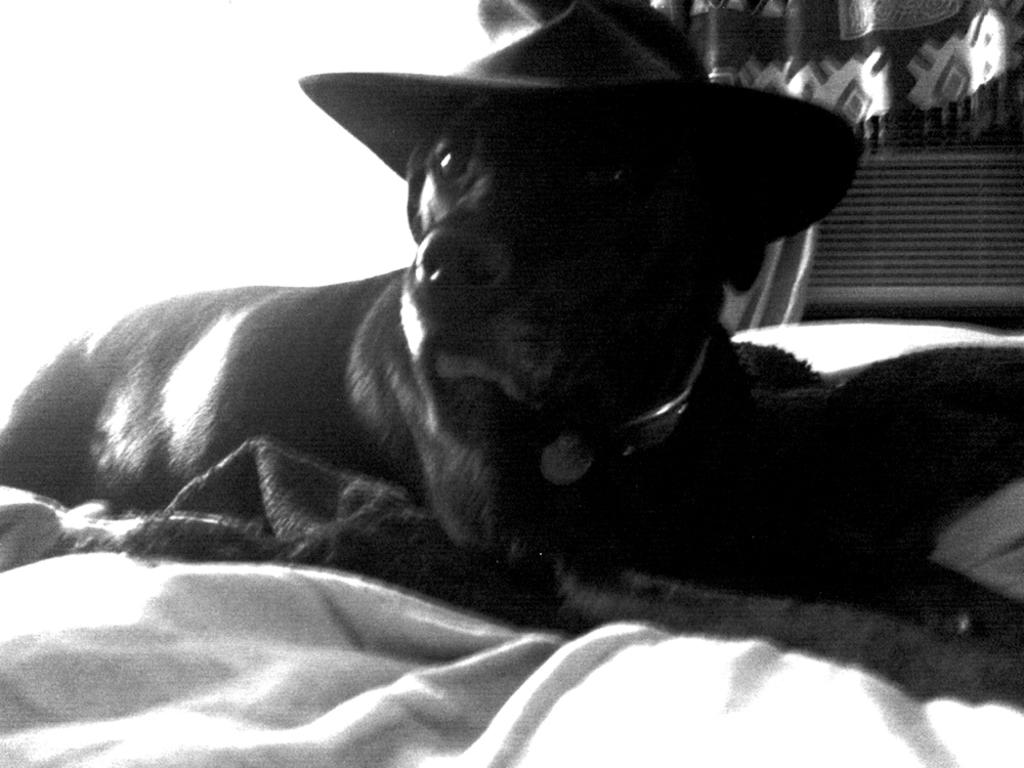Hat: (297, 0, 859, 295)
